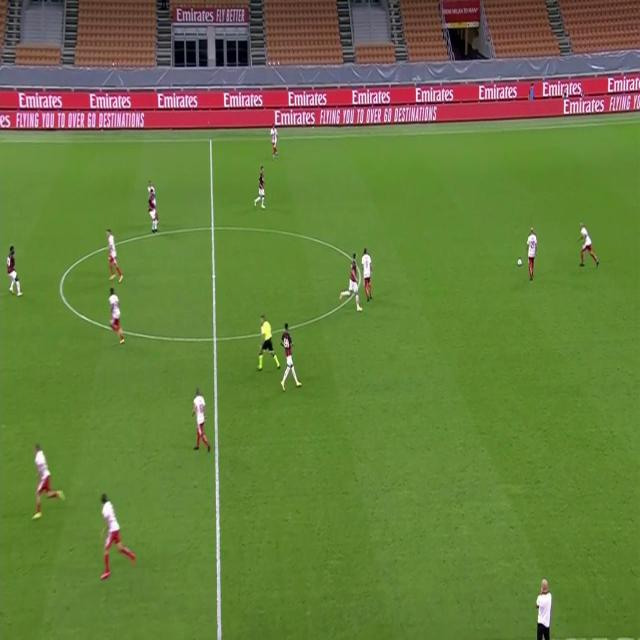ball: (516, 256, 524, 268)
player: (98, 492, 136, 580), (30, 442, 64, 522), (280, 321, 302, 390), (338, 250, 362, 313), (256, 313, 279, 372), (191, 387, 211, 452), (107, 286, 127, 346), (534, 576, 552, 640), (577, 220, 600, 268), (106, 226, 124, 284), (6, 244, 24, 298), (360, 245, 374, 303), (146, 180, 160, 233), (526, 225, 538, 281), (254, 164, 266, 210), (269, 118, 279, 158)
